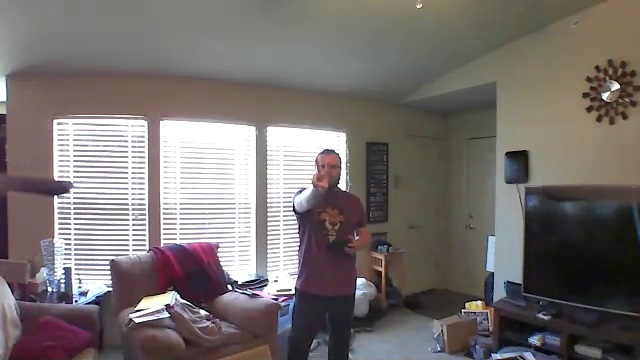peace: (308, 155, 333, 193)
